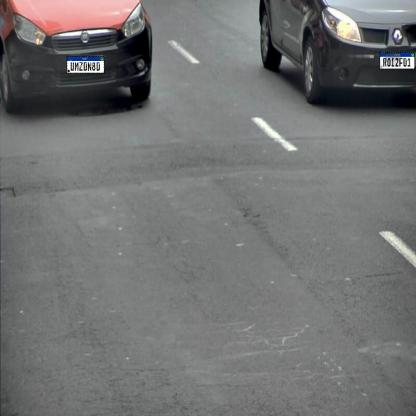PlacaM: (66, 56, 104, 74), (380, 52, 415, 69)
